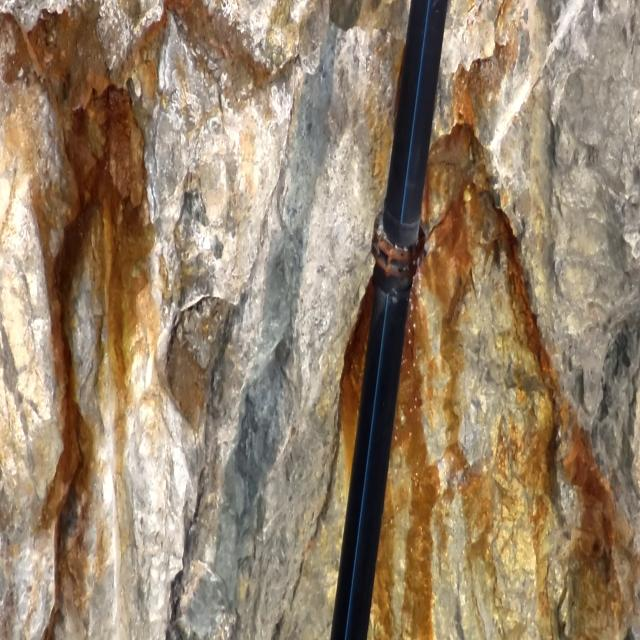leak: (400, 242, 430, 437)
